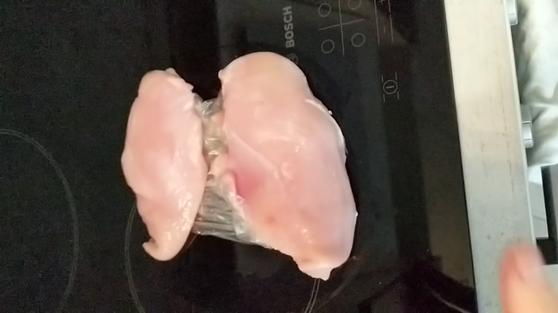chicken_fillet: (215, 47, 363, 291), (120, 70, 212, 259)
